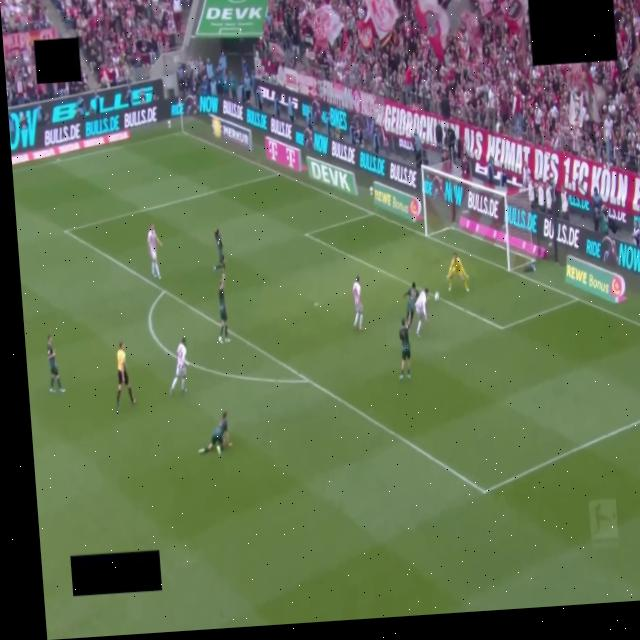ball: (435, 292, 439, 301)
player: (199, 411, 231, 453), (170, 338, 188, 394), (47, 334, 64, 393), (147, 224, 162, 279), (448, 252, 468, 291), (399, 319, 411, 379), (219, 274, 229, 343), (404, 282, 419, 327), (415, 288, 428, 337), (353, 276, 363, 330), (214, 229, 225, 271)
referee: (117, 343, 135, 409)
